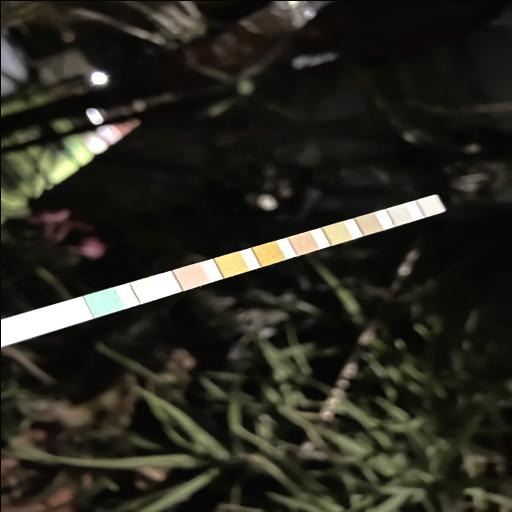Bilirubin: (136, 279, 162, 296)
Blood: (258, 244, 278, 260)
Glucose: (90, 293, 116, 310)
Ketone: (180, 267, 202, 283)
Leukocytes: (422, 198, 438, 212)
Nitrite: (392, 206, 406, 220)
Protein: (328, 224, 345, 238)
SpGravity: (221, 255, 241, 271)
Urobilinogen: (360, 214, 376, 230)
pH: (295, 235, 313, 249)
strip: (0, 194, 446, 347)
